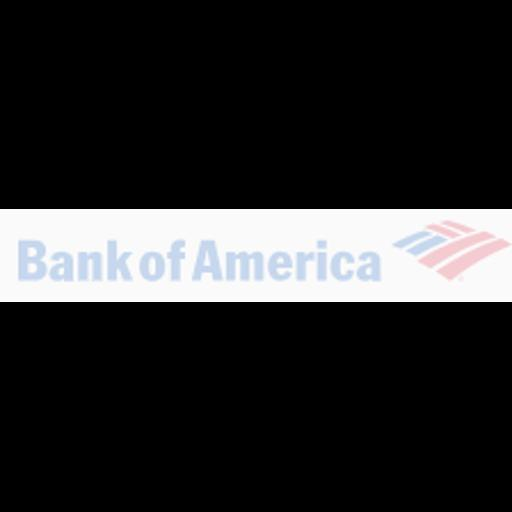Bank of America: (0, 209, 512, 302)
